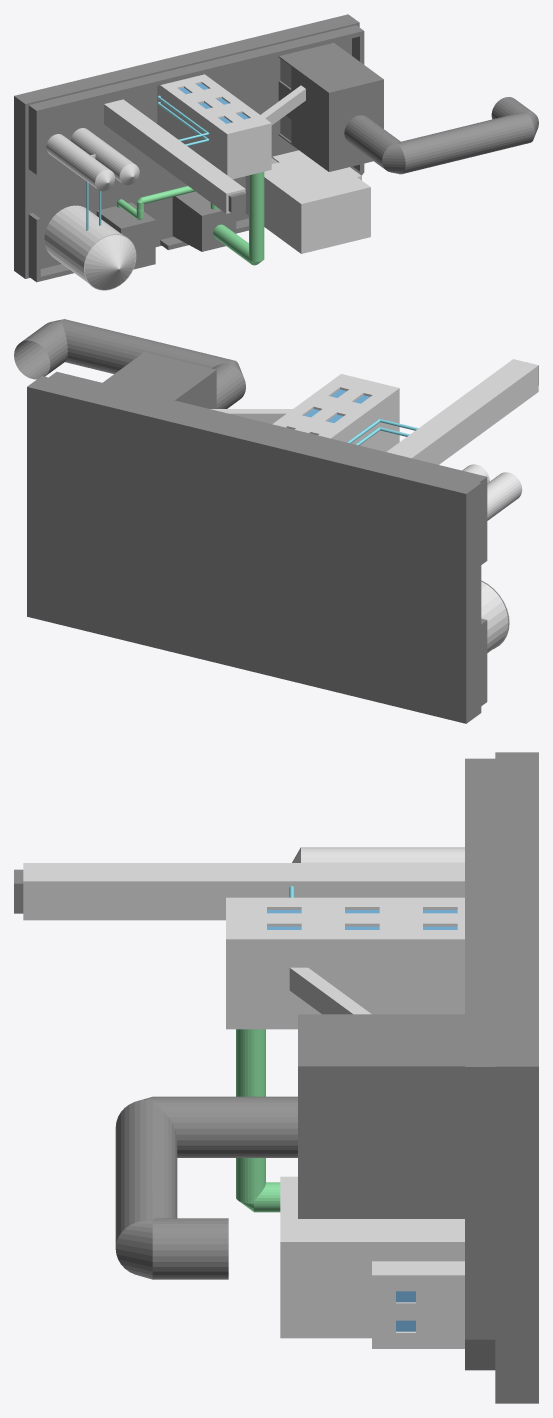
Rendered from 22_Factory_eco.fbx.
The picture shows the model from 3 angles, top to bottom: view 1: azimuth 30°, elevation 25°; view 2: azimuth 150°, elevation 25°; view 3: azimuth 270°, elevation 25°; orthographic projection. The views are drawn at different scales.
Parts seen in each view (by area): view 1: Cube; view 2: Cube; view 3: Cube.
Part boxes in pixels (x1,y1,x2,y2): Cube: (14,14,538,290); Cube: (14,319,538,723); Cube: (14,752,538,1403).
Size of the model in its own units: 43.89 by 17.27 by 24.38.
